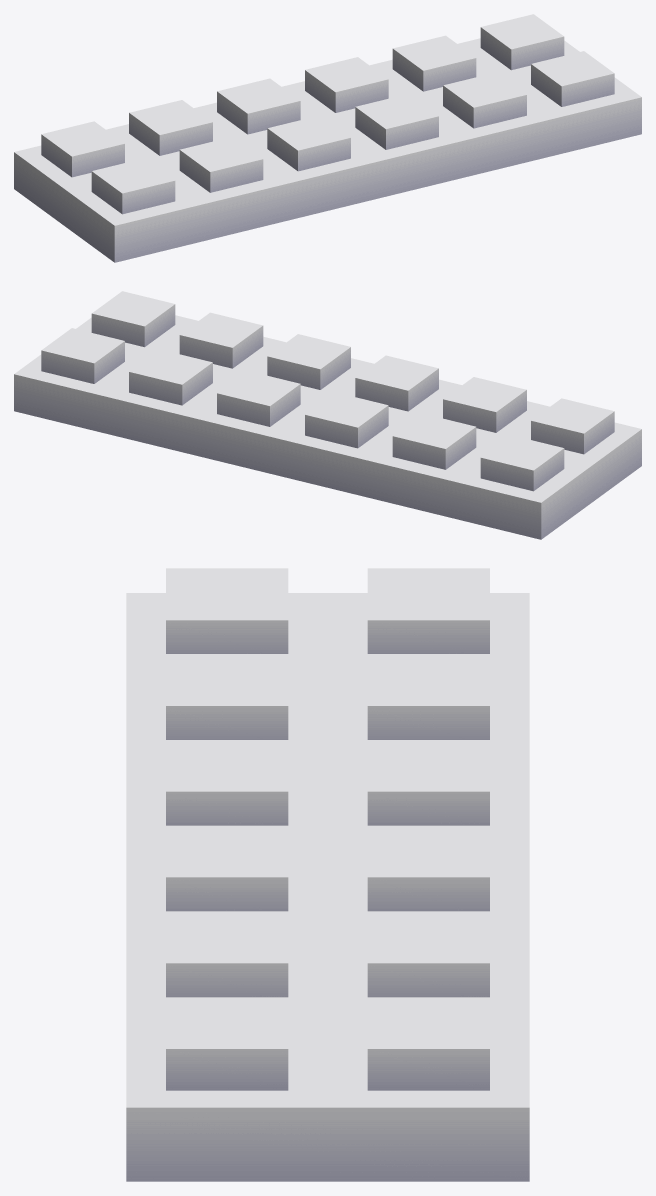
File: square_lq_plate_2x6.glb
3 views of the same model, one above another, from view 1: azimuth 30°, elevation 25°; view 2: azimuth 150°, elevation 25°; view 3: azimuth 270°, elevation 25° (orthographic). The views are drawn at different scales.
Visible parts, largest first — view 1: square-lq-plate-2x6; view 2: square-lq-plate-2x6; view 3: square-lq-plate-2x6.
Part boxes in pixels (x1,y1,x2,y2): square-lq-plate-2x6: (14,14,641,262); square-lq-plate-2x6: (14,291,641,539); square-lq-plate-2x6: (126,568,529,1181).
Size of the model in its own units: 0.477 by 0.05 by 0.158.
1 material, 1 textured.
